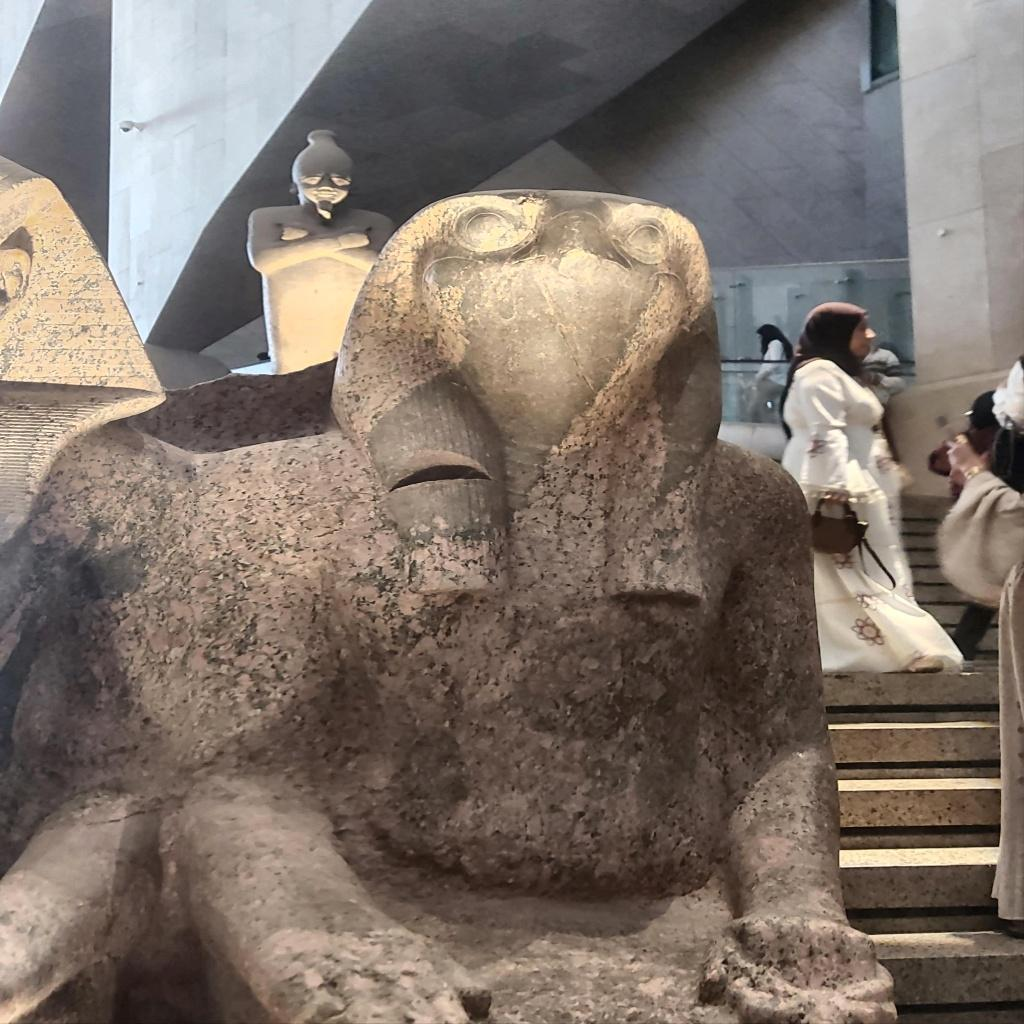Statue of Amenhotep III and God Re-Horakhty: (0, 168, 824, 976)
